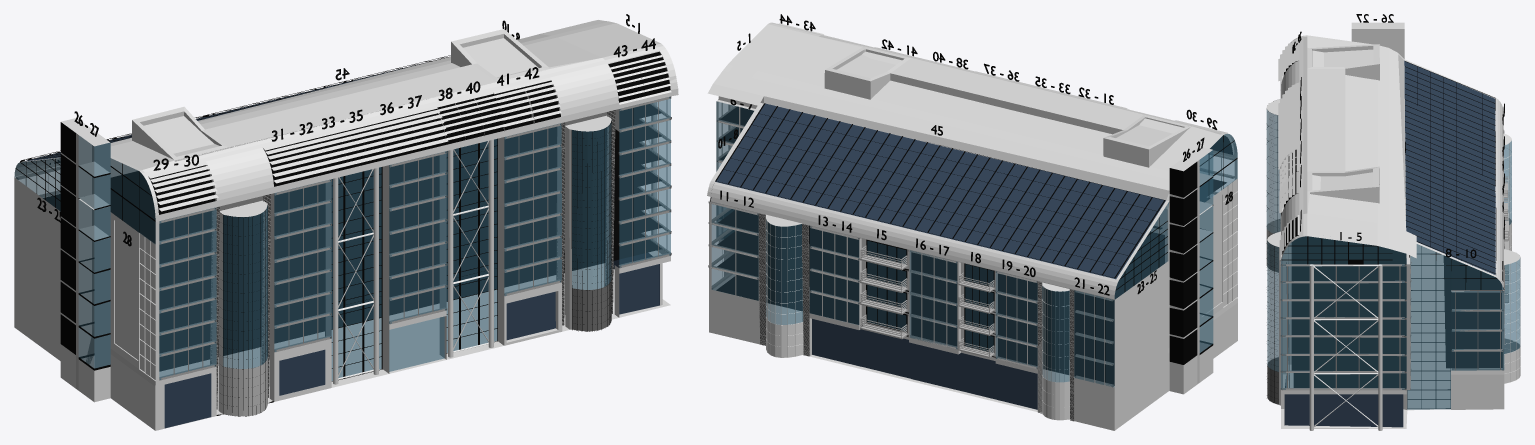
Rendered from WellcomeTrust.glb.
3 renders of one model, left to right at view 1: azimuth 30°, elevation 25°; view 2: azimuth 150°, elevation 25°; view 3: azimuth 270°, elevation 25°, orthographic. The views are drawn at different scales.
Visible parts, largest first — view 1: Plane, Cube, Plane.013, Plane.011, Plane.014, Plane.009, Drop27, Plane.012, Plane.023, Plane.025, Drop41, Drop31 (+31 smaller); view 2: Plane, Drop45, Plane.039, Plane.026, Plane.028, Plane.027, Drop26, Plane.010, building_072.006, Cube, Drop27, Drop15 (+23 smaller); view 3: Plane, Drop45, Drop10, Drop8, Plane.039, Drop1, Plane.025, Drop9, Drop5, Drop3, Drop2, Drop4 (+27 smaller).
Part boxes in pixels (x1,y1,x2,y2): Plane: (14, 20, 678, 430); Cube: (60, 118, 110, 402); Plane.013: (159, 187, 661, 327); Plane.011: (159, 142, 661, 281); Plane.014: (159, 211, 662, 349); Plane.009: (159, 165, 661, 303); Drop27: (78, 135, 110, 368); Plane.012: (159, 233, 661, 371); Plane.023: (111, 121, 660, 258); Plane.025: (111, 104, 661, 237); Drop41: (494, 87, 533, 295); Drop31: (263, 144, 302, 351); Plane: (707, 22, 1237, 430); Drop45: (715, 103, 1169, 279); Plane.039: (715, 103, 1165, 277); Plane.026: (716, 275, 1114, 385); Plane.028: (717, 231, 1114, 340); Plane.027: (717, 253, 1114, 362); Drop26: (1169, 162, 1197, 364); Plane.010: (718, 210, 1124, 319); building_072.006: (860, 245, 994, 357); Cube: (1169, 146, 1213, 394); Drop27: (1199, 150, 1213, 352); Drop15: (867, 241, 906, 331); Plane: (1266, 35, 1520, 428); Drop45: (1404, 59, 1495, 274); Drop10: (1455, 266, 1504, 370); Drop8: (1407, 244, 1435, 409); Plane.039: (1405, 61, 1496, 273); Drop1: (1281, 236, 1309, 389); Plane.025: (1294, 236, 1406, 281); Drop9: (1436, 252, 1465, 409); Drop5: (1382, 264, 1406, 389); Drop3: (1337, 266, 1358, 388); Drop2: (1314, 266, 1335, 388); Drop4: (1359, 266, 1378, 388).
Bounding box in the file's own units: 234 × 112 × 121.
Materials: 153 (4 with a texture image).
